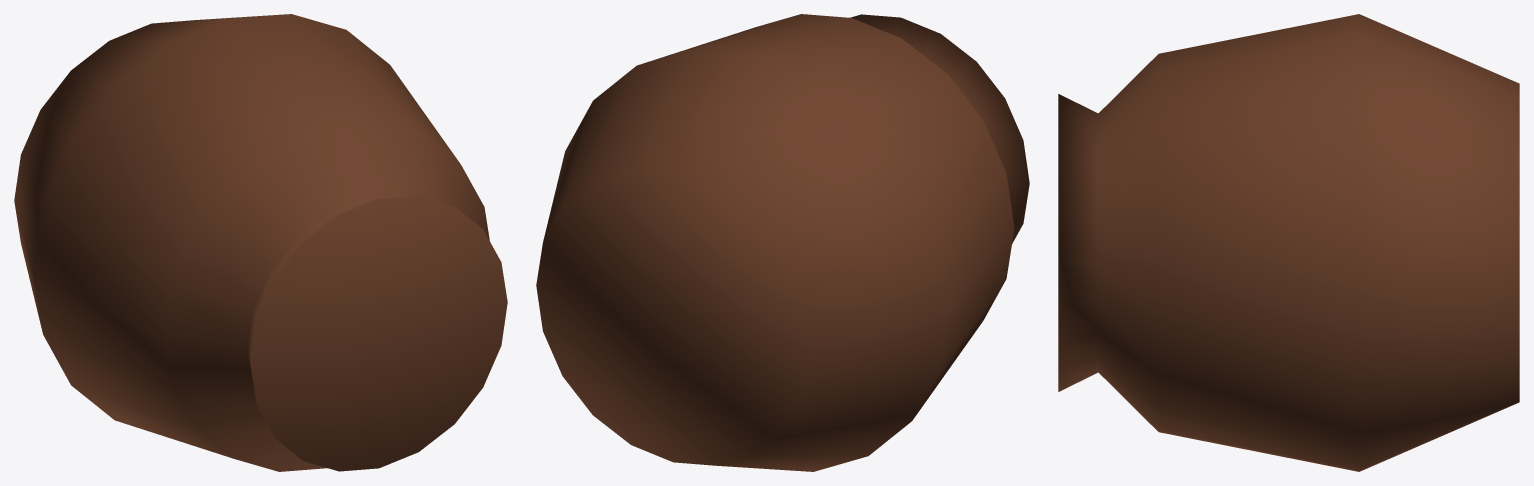
The model's file is PROP_POT_LARGE.obj.
The picture shows the model from 3 angles, left to right: view 1: azimuth 30°, elevation 25°; view 2: azimuth 150°, elevation 25°; view 3: azimuth 270°, elevation 25°; orthographic projection.
Visible parts, largest first — view 1: PROP_POT_LARGE; view 2: PROP_POT_LARGE; view 3: PROP_POT_LARGE.
Part boxes in pixels (x1,y1,x2,y2): PROP_POT_LARGE: (14,14,507,471); PROP_POT_LARGE: (536,14,1029,471); PROP_POT_LARGE: (1058,14,1519,471).
Size of the model in its own units: 0.46 by 0.46 by 0.46.
